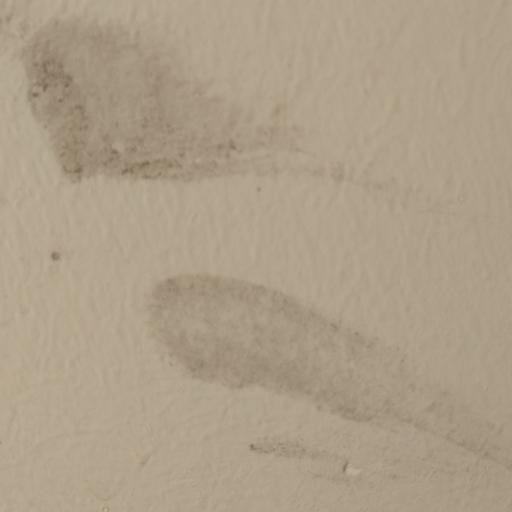stain: (18, 11, 456, 220), (139, 264, 509, 474), (41, 244, 74, 272)
